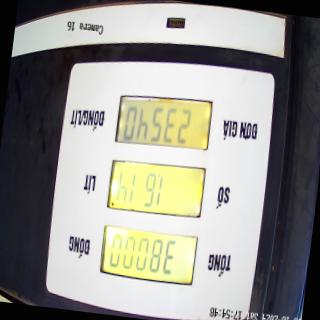screen: (96, 84, 216, 294)
